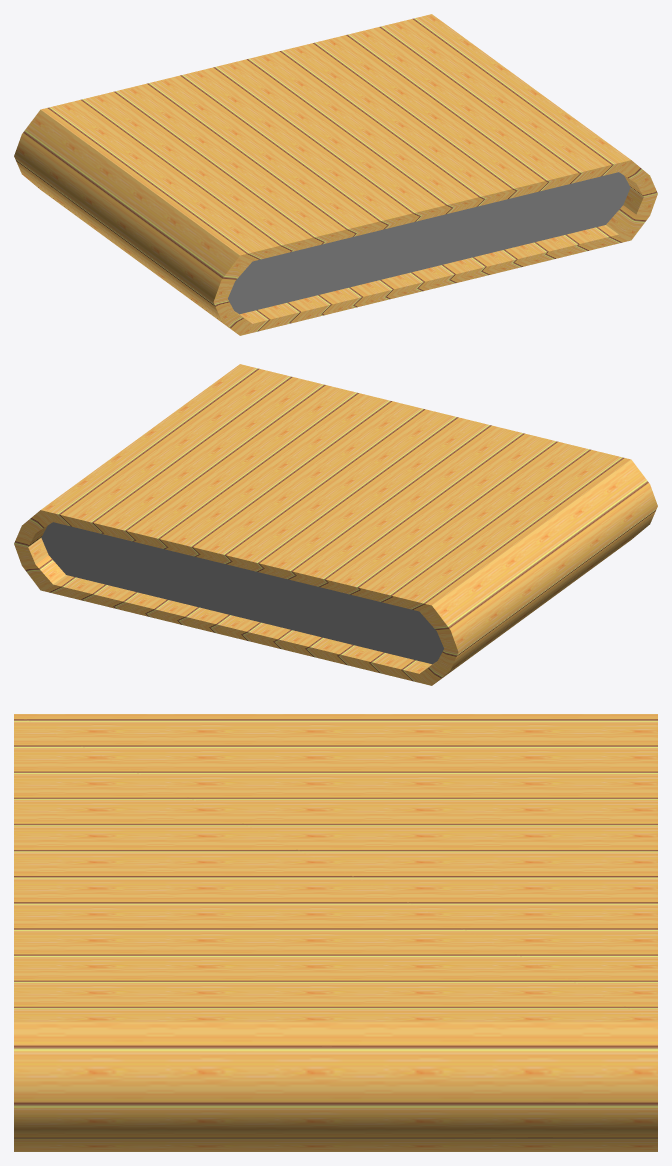
The model's file is Comveyer.fbx.
3 renders of one model, top to bottom at view 1: azimuth 30°, elevation 25°; view 2: azimuth 150°, elevation 25°; view 3: azimuth 270°, elevation 25°, orthographic. The views are drawn at different scales.
Visible parts, largest first — view 1: Conveyor; view 2: Conveyor; view 3: Conveyor.
Boxes of the visible parts, box(x1,y1,x2,y2) form: Conveyor: box(14, 14, 657, 335); Conveyor: box(14, 364, 657, 685); Conveyor: box(14, 714, 657, 1151).
Size of the model in its own units: 3.05 by 0.5261 by 2.37.
